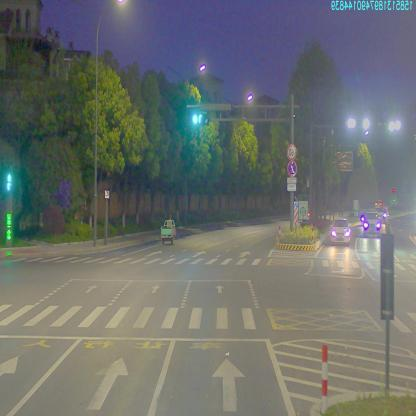traffic-light: (192, 113, 204, 126)
